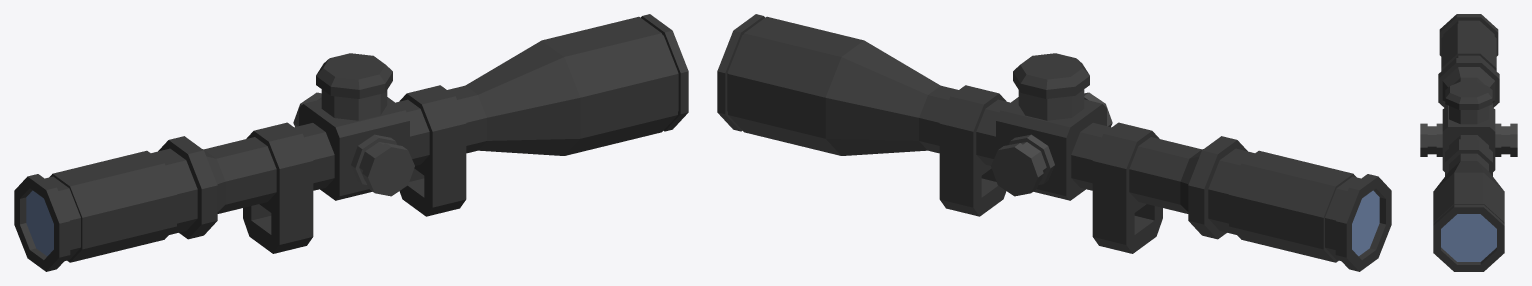
File: Optic_07.fbx
The picture shows the model from 3 angles, left to right: view 1: azimuth 30°, elevation 25°; view 2: azimuth 150°, elevation 25°; view 3: azimuth 270°, elevation 25°; orthographic projection. The views are drawn at different scales.
Visible parts, largest first — view 1: Optic_07; view 2: Optic_07; view 3: Optic_07.
Boxes of the visible parts, x1,y1,x2,y2 form: Optic_07: (14,14,688,271); Optic_07: (717,14,1391,271); Optic_07: (1420,14,1517,271).
Size of the model in its own units: 0.3973 by 0.095 by 0.0823.
